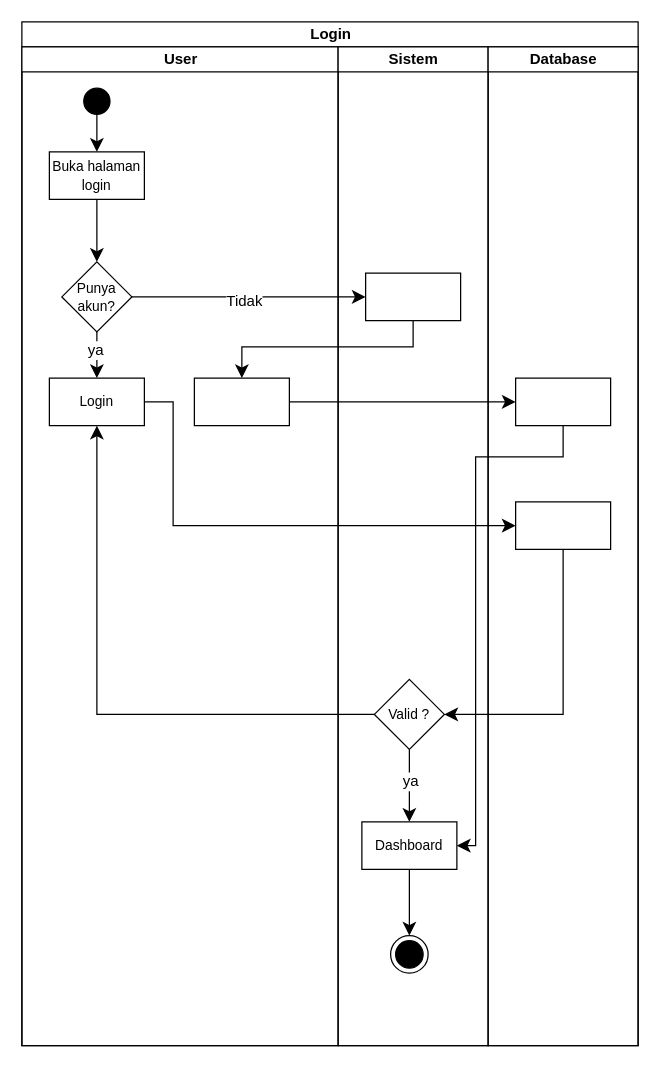
This 660x1068 diagram has some shape labels left out. The shapes that lost their labels are listed below. From the top down, each one's centre as x and y in pixels, then its label:
point 412,296: Register
point 241,401: form register
point 562,401: Simpan data
point 562,525: Cek username dan password
